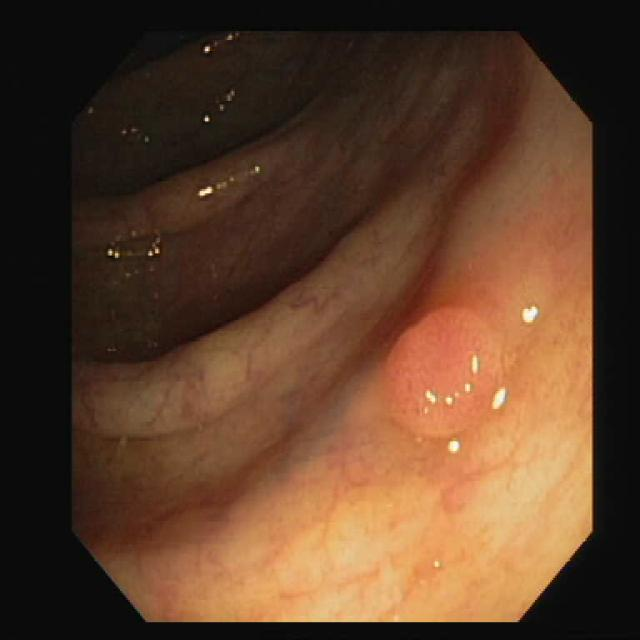tumor: (387, 309, 498, 431)
